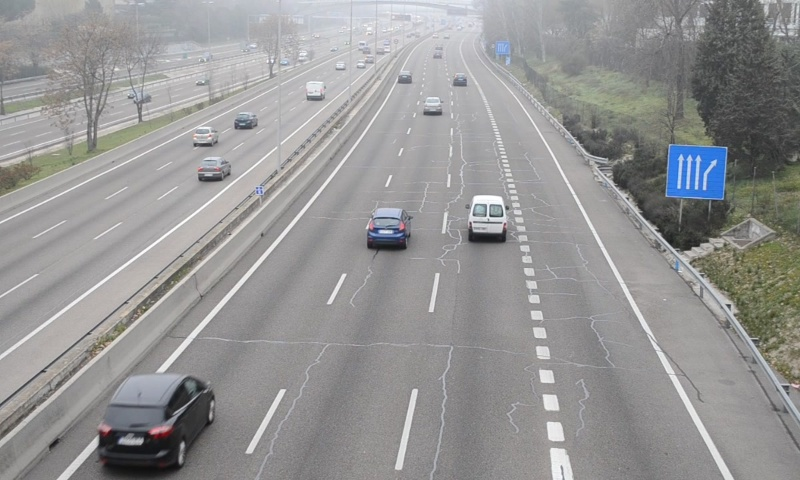car: (98, 374, 214, 464), (365, 209, 410, 248), (422, 97, 442, 115), (452, 72, 468, 87), (397, 69, 412, 84)
van: (468, 196, 508, 239)
